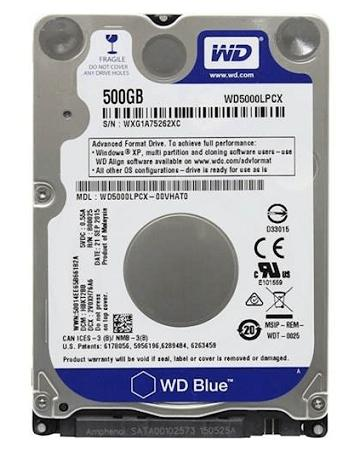internal HDD: (32, 13, 330, 440)
